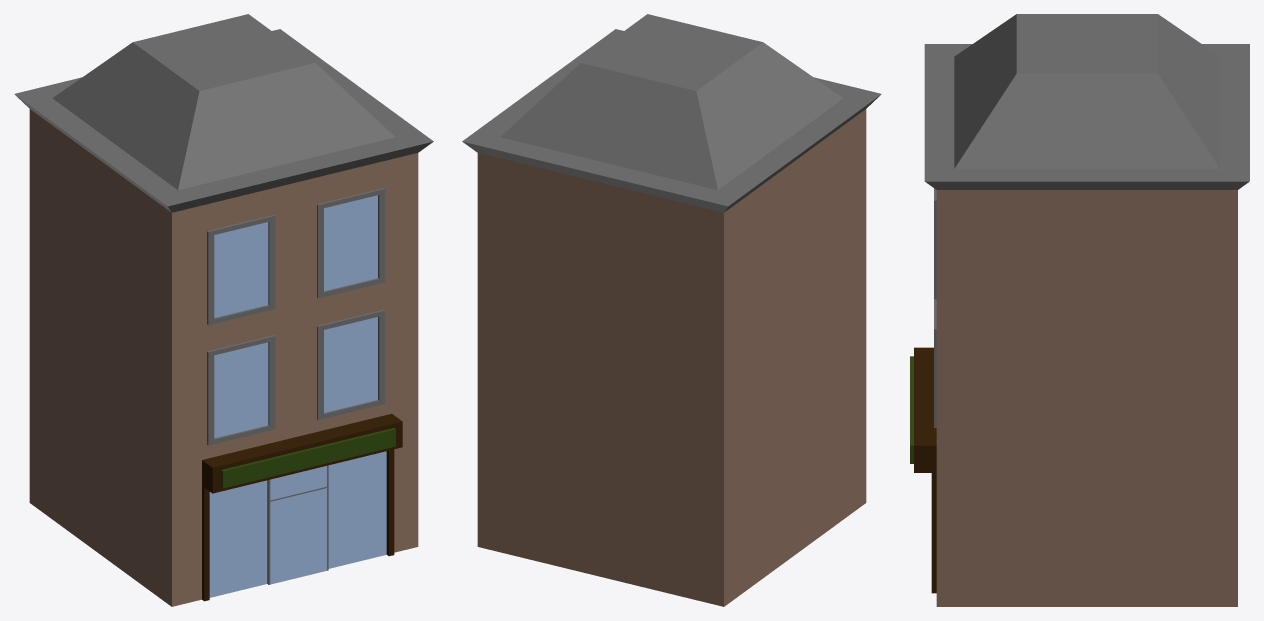
File: House3Lvl3.fbx
3 renders of one model, left to right at view 1: azimuth 30°, elevation 25°; view 2: azimuth 150°, elevation 25°; view 3: azimuth 270°, elevation 25°, orthographic. The views are drawn at different scales.
Visible parts, largest first — view 1: House3Lvl3; view 2: House3Lvl3; view 3: House3Lvl3.
Part boxes in pixels (bbox=[...]): House3Lvl3: bbox=[14, 14, 433, 606]; House3Lvl3: bbox=[462, 14, 881, 606]; House3Lvl3: bbox=[910, 14, 1249, 606].
Size of the model in its own units: 89.13 by 151 by 93.14.
